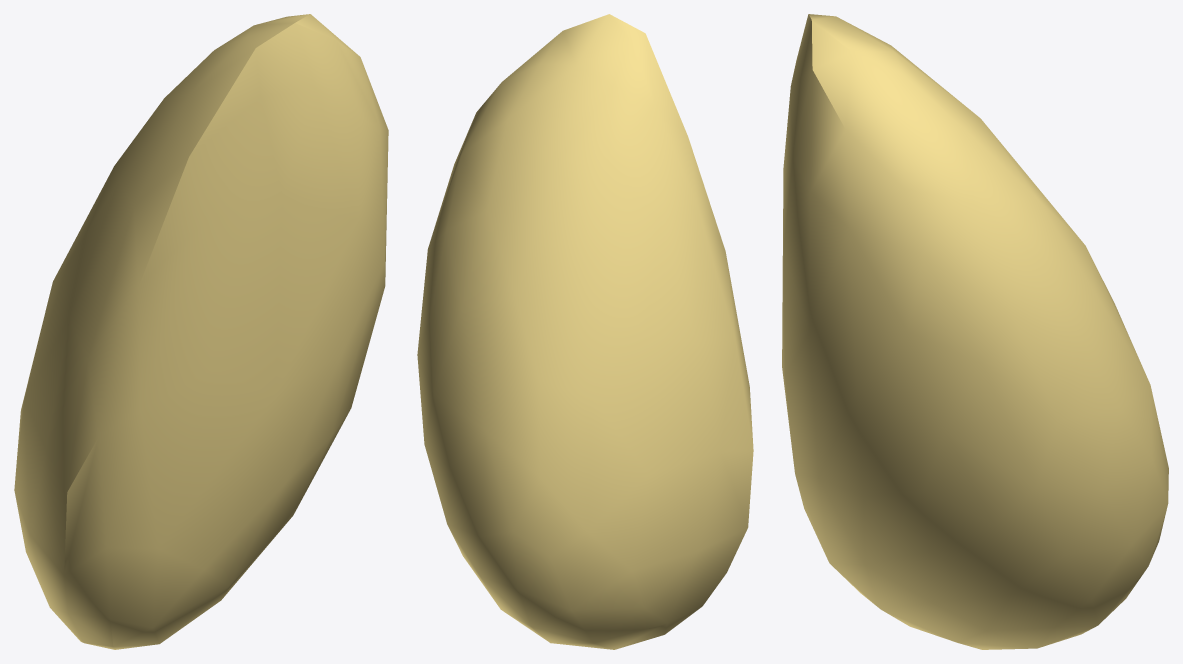
File: fma54563_mm3502m.glb
The picture shows the model from 3 angles, left to right: view 1: azimuth 30°, elevation 25°; view 2: azimuth 150°, elevation 25°; view 3: azimuth 270°, elevation 25°; orthographic projection. The views are drawn at different scales.
Visible parts, largest first — view 1: FMA54563_MM3502M; view 2: FMA54563_MM3502M; view 3: FMA54563_MM3502M.
Boxes of the visible parts, box(x1,y1,x2,y2) form: FMA54563_MM3502M: box(14, 14, 388, 649); FMA54563_MM3502M: box(417, 14, 753, 649); FMA54563_MM3502M: box(782, 14, 1168, 649).
Size of the model in its own units: 0.002 by 0.00371 by 0.00196.
